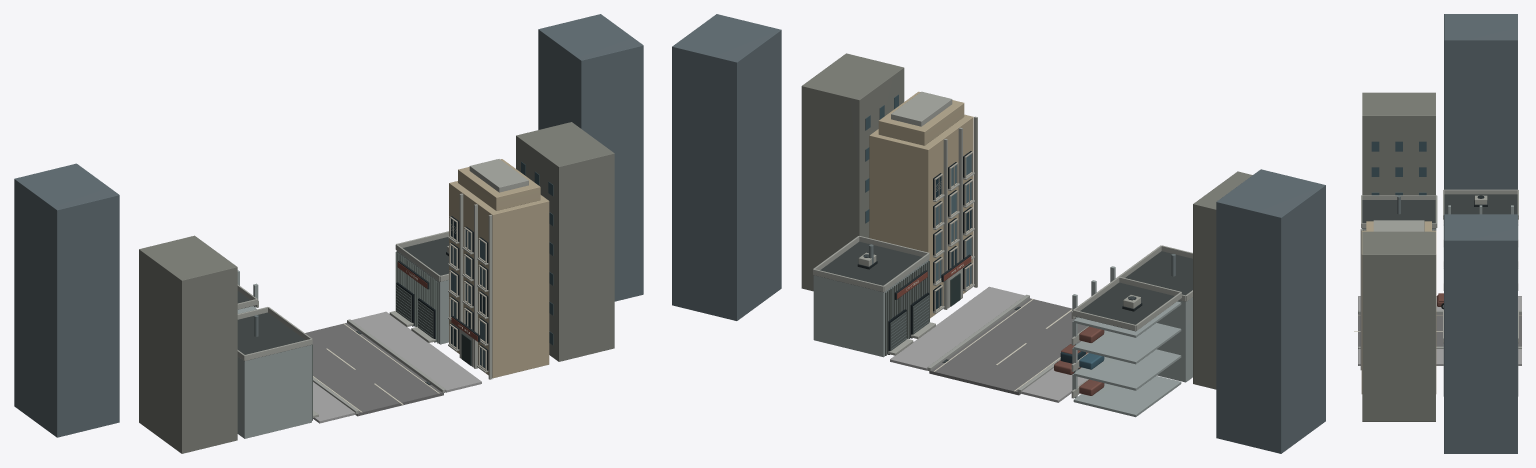
File: city_hd_21.glb
3 views of the same model, side by side, from view 1: azimuth 30°, elevation 25°; view 2: azimuth 150°, elevation 25°; view 3: azimuth 270°, elevation 25° (orthographic). The views are drawn at different scales.
Visible parts, largest first — view 1: CITY_distant_2, CITY_distant_1, CITY_wall_sand, CITY_wall_gray, CITY_PBR_asphalt, CITY_trim, CITY_PBR_pavement, CITY_roof, CITY_frame, CITY_warehouse_metal, CITY_recess, CITY_glass (+2 smaller); view 2: CITY_distant_2, CITY_distant_1, CITY_wall_gray, CITY_wall_sand, CITY_trim, CITY_PBR_asphalt, CITY_roof, CITY_PBR_pavement, CITY_frame, CITY_warehouse_metal, CITY_recess, CITY_glass (+3 smaller); view 3: CITY_distant_2, CITY_distant_1, CITY_roof, CITY_trim, CITY_wall_sand, CITY_distant_window, CITY_PBR_asphalt, CITY_PBR_pavement, CITY_wall_gray.
Boxes of the visible parts, x1,y1,x2,y2 form: CITY_distant_2: (14,14,643,437); CITY_distant_1: (139,122,614,453); CITY_wall_sand: (449,159,549,378); CITY_wall_gray: (237,251,448,438); CITY_PBR_asphalt: (305,323,443,416); CITY_trim: (237,159,528,417); CITY_PBR_pavement: (313,311,481,423); CITY_roof: (237,237,448,356); CITY_frame: (449,216,486,370); CITY_warehouse_metal: (312,251,438,420); CITY_recess: (396,216,488,370); CITY_glass: (451,230,485,368); CITY_distant_2: (672,14,1325,453); CITY_distant_1: (801,53,1252,389); CITY_wall_gray: (813,259,1192,417); CITY_wall_sand: (869,91,973,318); CITY_trim: (813,91,1192,398); CITY_PBR_asphalt: (929,298,1087,395); CITY_roof: (820,241,1192,331); CITY_PBR_pavement: (890,286,1087,402); CITY_frame: (934,151,973,311); CITY_warehouse_metal: (885,260,929,355); CITY_recess: (888,151,971,354); CITY_glass: (936,154,971,286); CITY_distant_2: (1444,14,1517,453); CITY_distant_1: (1362,92,1435,421); CITY_roof: (1362,194,1517,228); CITY_trim: (1360,189,1518,370); CITY_wall_sand: (1361,221,1436,393); CITY_distant_window: (1371,141,1426,195); CITY_PBR_asphalt: (1358,314,1521,346); CITY_PBR_pavement: (1358,296,1521,365); CITY_wall_gray: (1362,205,1518,396).
Bounding box in the file's own units: 56.65 × 23.26 × 16.4.
